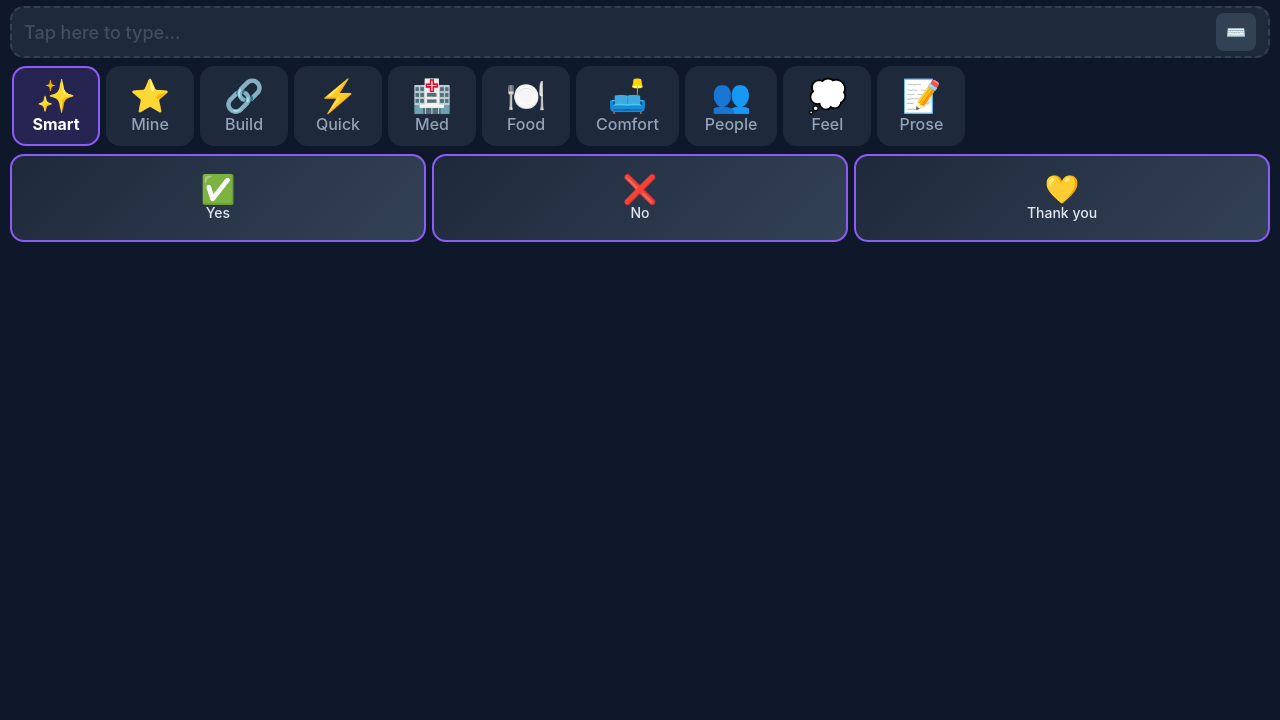
Scenario: TalkScreen integration › speaks pain level and fills speech bar when pain number is tapped
Click the text "Med": click(432, 124) [415,116,449,132]
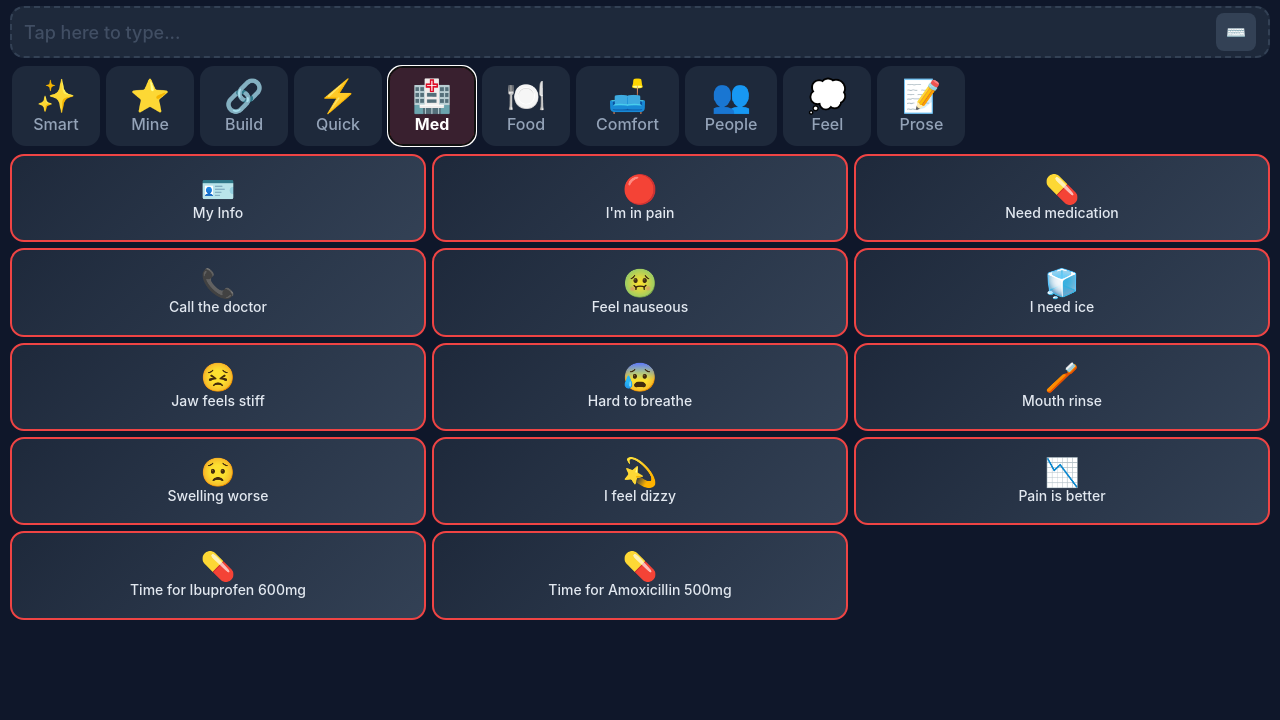
Click the text "I'm in pain": click(640, 213) [603,205,677,222]
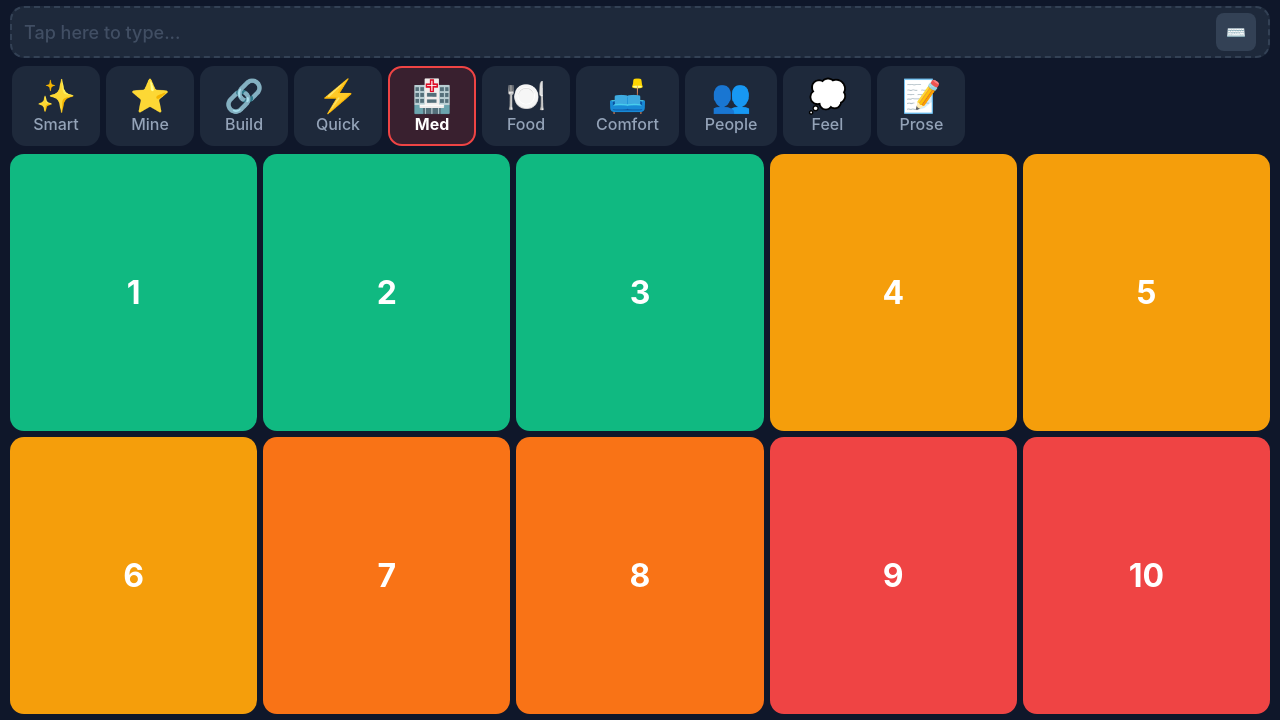
Click the button "5": click(1146, 292) [1023,154,1270,431]
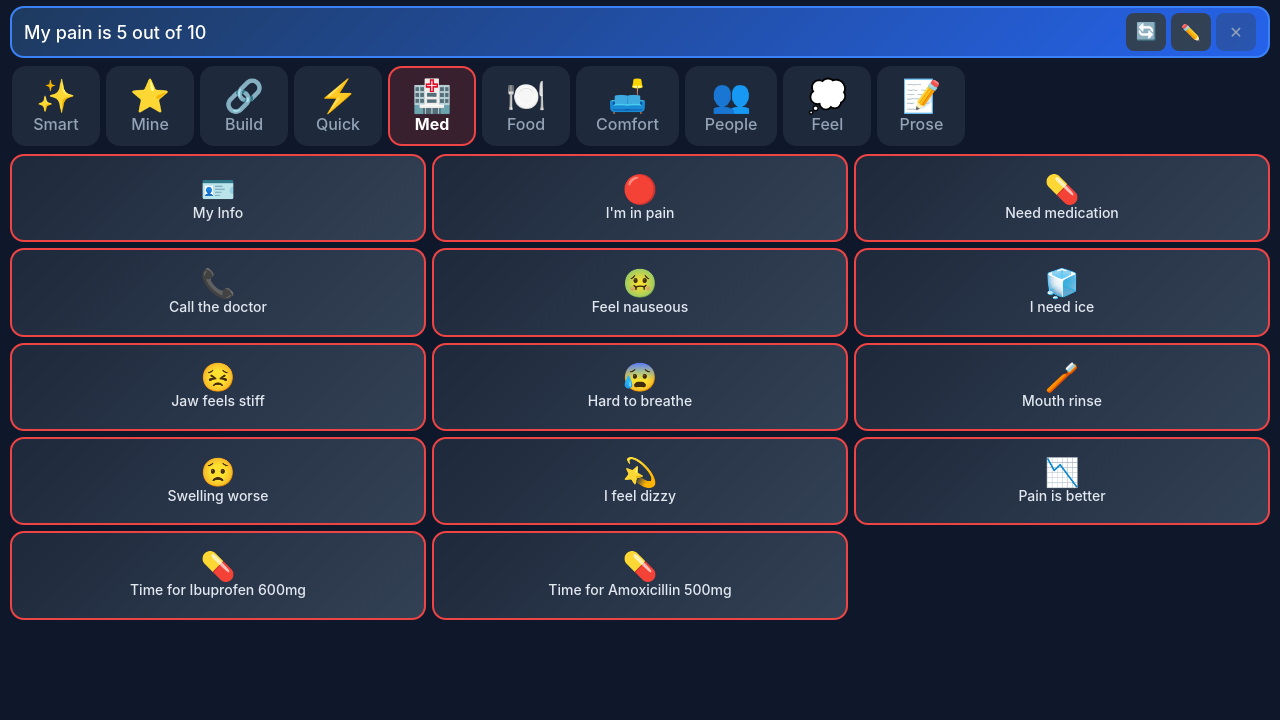
Result: the field showing "My pain is 5 out of 10" is shown at [24,18,1118,46]
